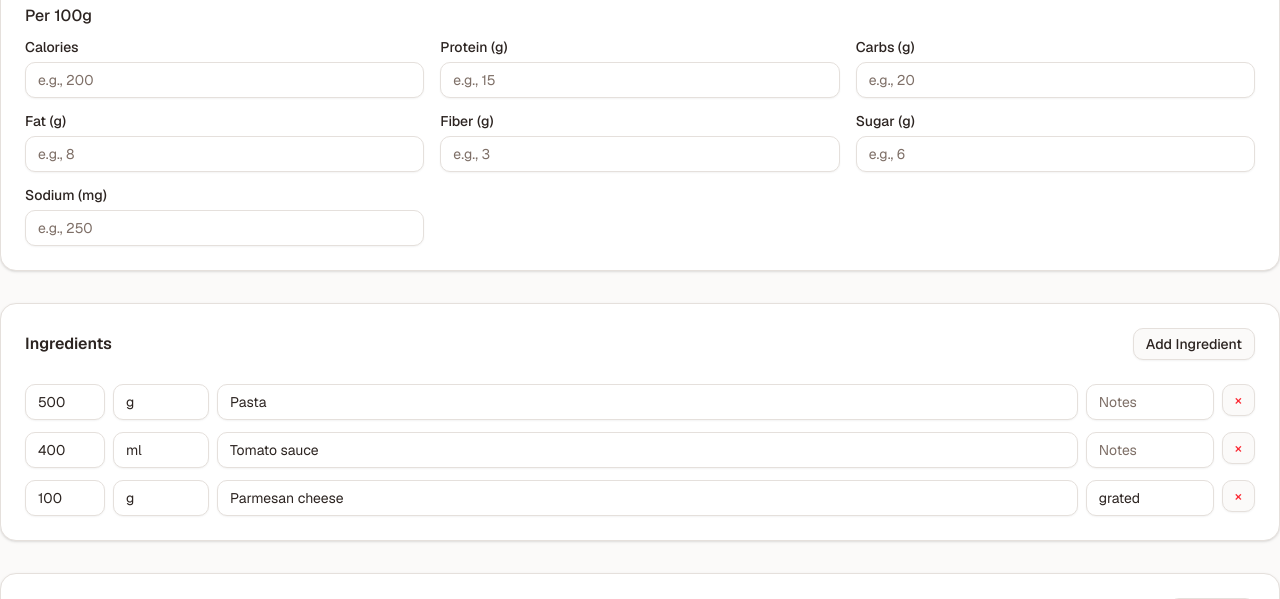
Scenario: RecipeForm › removes ingredient row when remove button clicked
The width and height of the screenshot is (1280, 599).
(page scrolled)
Click the 1st button "×": (1238, 400) [1222,384,1255,416]
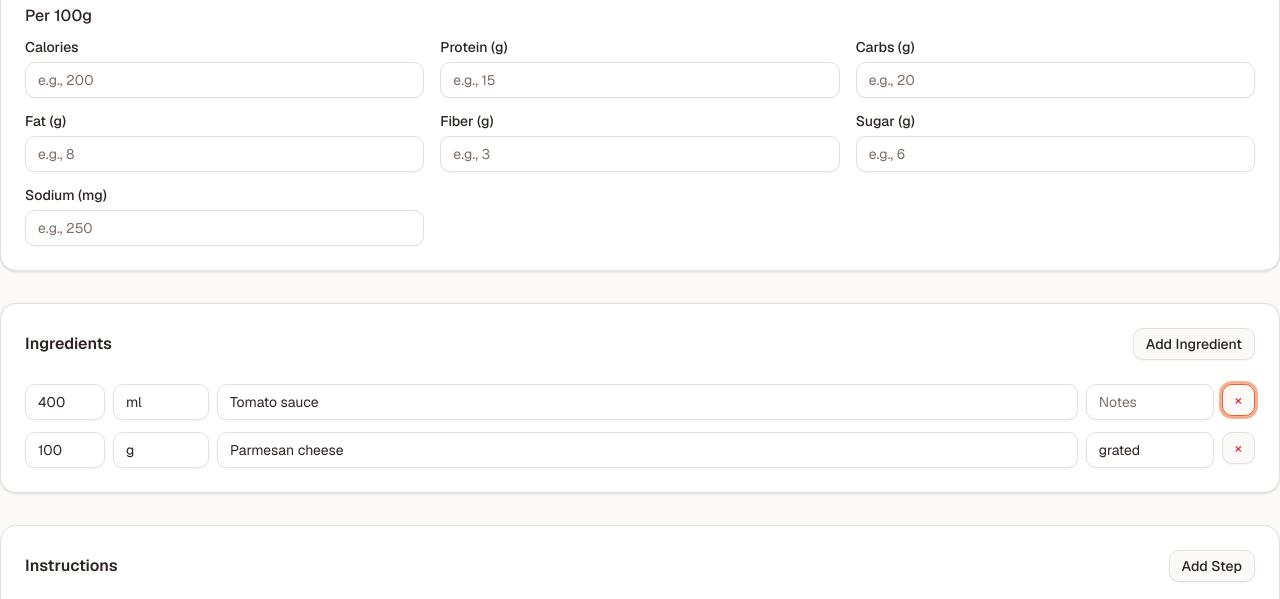
Check: the number of fields with placeholder "Ingredient name" is 2, box [217,384,1078,420]; [217,432,1078,468]
